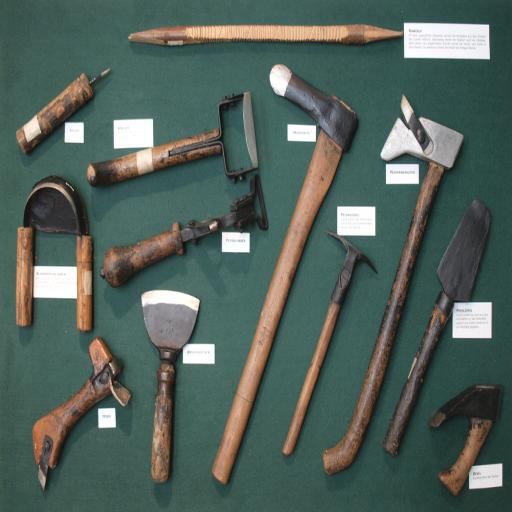Axe: (320, 91, 464, 475)
